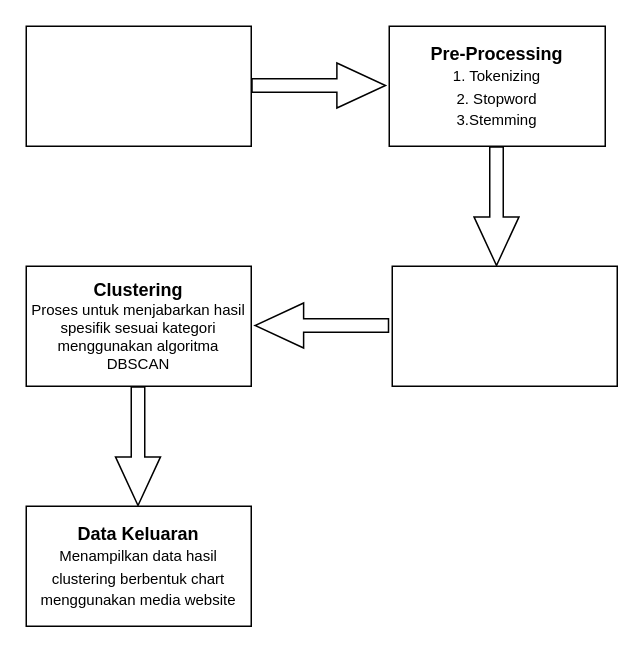
The diagram is 644 pixels wide and 653 high, and some of its shapes have lost their labels. Each missing label, with the box of its shape:
Data Masukan Data diambil dari komentar instagram: (25, 25, 251, 146)
Pembobotan Kata Pembobotan kata menggunakan TF-Idf: (391, 265, 617, 386)
